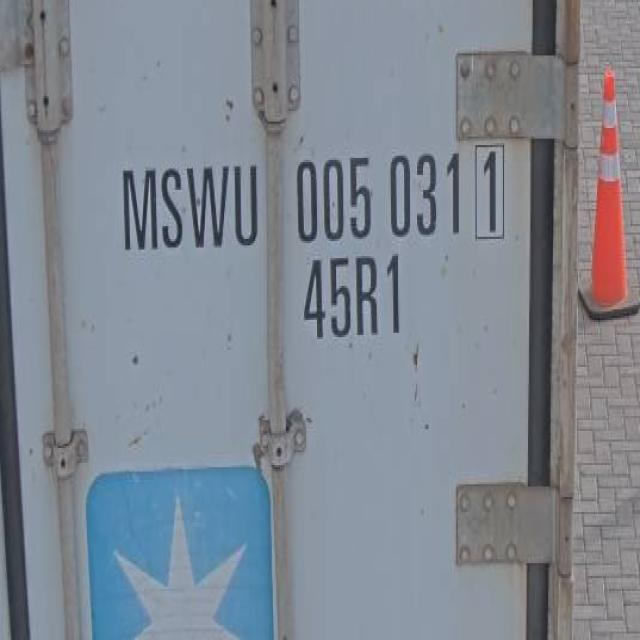dv: (471, 134, 510, 246)
owner: (115, 146, 264, 263)
serial: (288, 143, 466, 246)
size: (296, 250, 412, 350)
